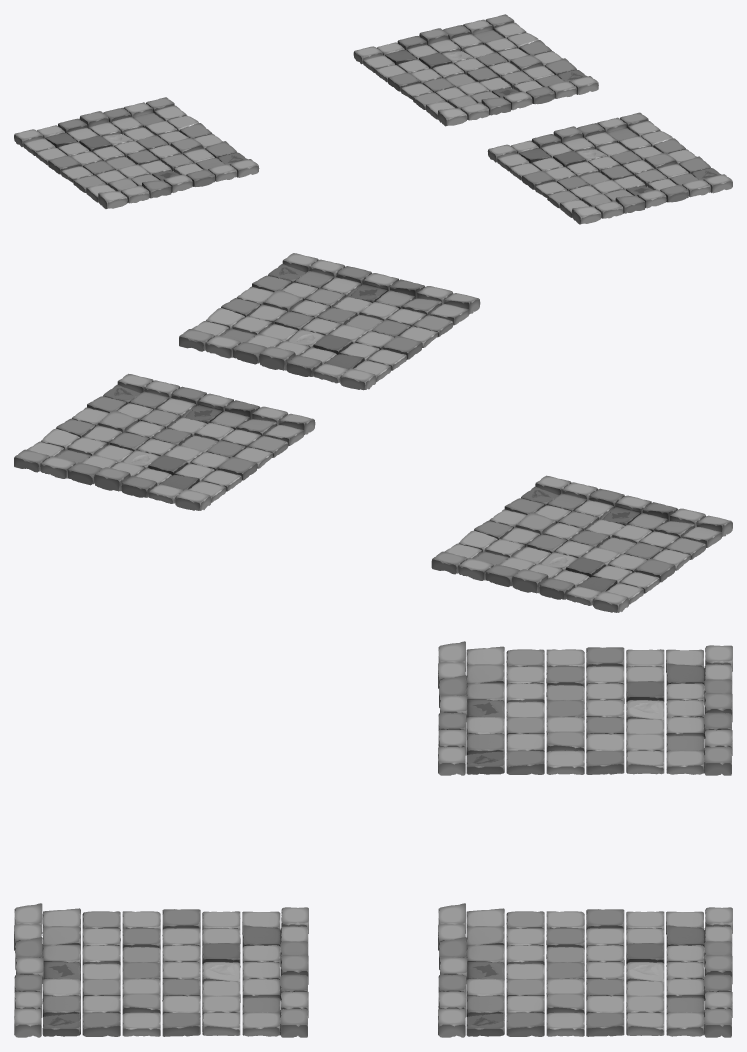
File: MESH_BrickFloor&Ramps.glb
3 views of the same model, one above another, from view 1: azimuth 30°, elevation 25°; view 2: azimuth 150°, elevation 25°; view 3: azimuth 270°, elevation 25° (orthographic). The views are drawn at different scales.
Visible parts, largest first — view 1: MESH_BrickRamp90, MESH_BrickFloor, MESH_BrickRampJump; view 2: MESH_BrickFloor, MESH_BrickRampJump, MESH_BrickRamp90; view 3: MESH_BrickRamp90, MESH_BrickRampJump, MESH_BrickFloor.
Boxes of the visible parts, box(x1,y1,x2,y2) form: MESH_BrickRamp90: box(487, 112, 732, 224); MESH_BrickFloor: box(14, 97, 259, 208); MESH_BrickRampJump: box(353, 14, 598, 126); MESH_BrickFloor: box(431, 475, 732, 612); MESH_BrickRampJump: box(14, 373, 315, 510); MESH_BrickRamp90: box(179, 253, 480, 390); MESH_BrickRamp90: box(14, 903, 308, 1037); MESH_BrickRampJump: box(438, 903, 732, 1037); MESH_BrickFloor: box(438, 641, 732, 775).
Bounding box in the file's own units: 11.59 × 0.247 × 9.28.
1 material, 1 textured.
